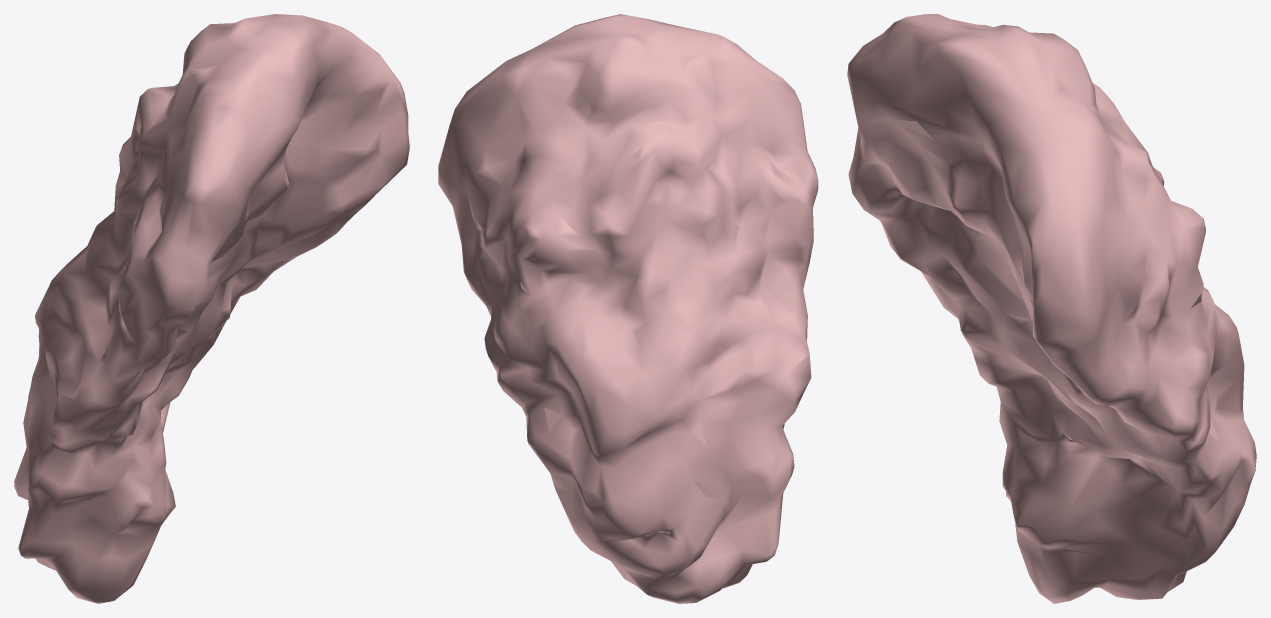
File: 3d-vh-f-palatine-tonsil-r_lod_20.glb
The picture shows the model from 3 angles, left to right: view 1: azimuth 30°, elevation 25°; view 2: azimuth 150°, elevation 25°; view 3: azimuth 270°, elevation 25°; orthographic projection. The views are drawn at different scales.
Parts seen in each view (by area): view 1: VH_F_palatine_tonsil_R; view 2: VH_F_palatine_tonsil_R; view 3: VH_F_palatine_tonsil_R.
Boxes of the visible parts, x1=… form: VH_F_palatine_tonsil_R: x1=14, y1=14, x2=409, y2=603; VH_F_palatine_tonsil_R: x1=438, y1=14, x2=818, y2=603; VH_F_palatine_tonsil_R: x1=847, y1=14, x2=1256, y2=603.
Size of the model in its own units: 0.0168 by 0.0239 by 0.0139.
